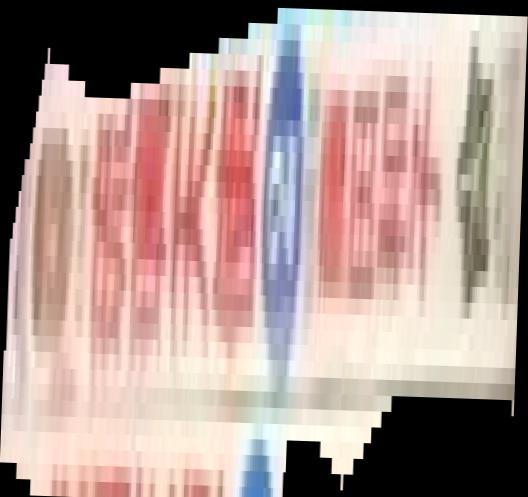flat: (1, 1, 528, 497)
